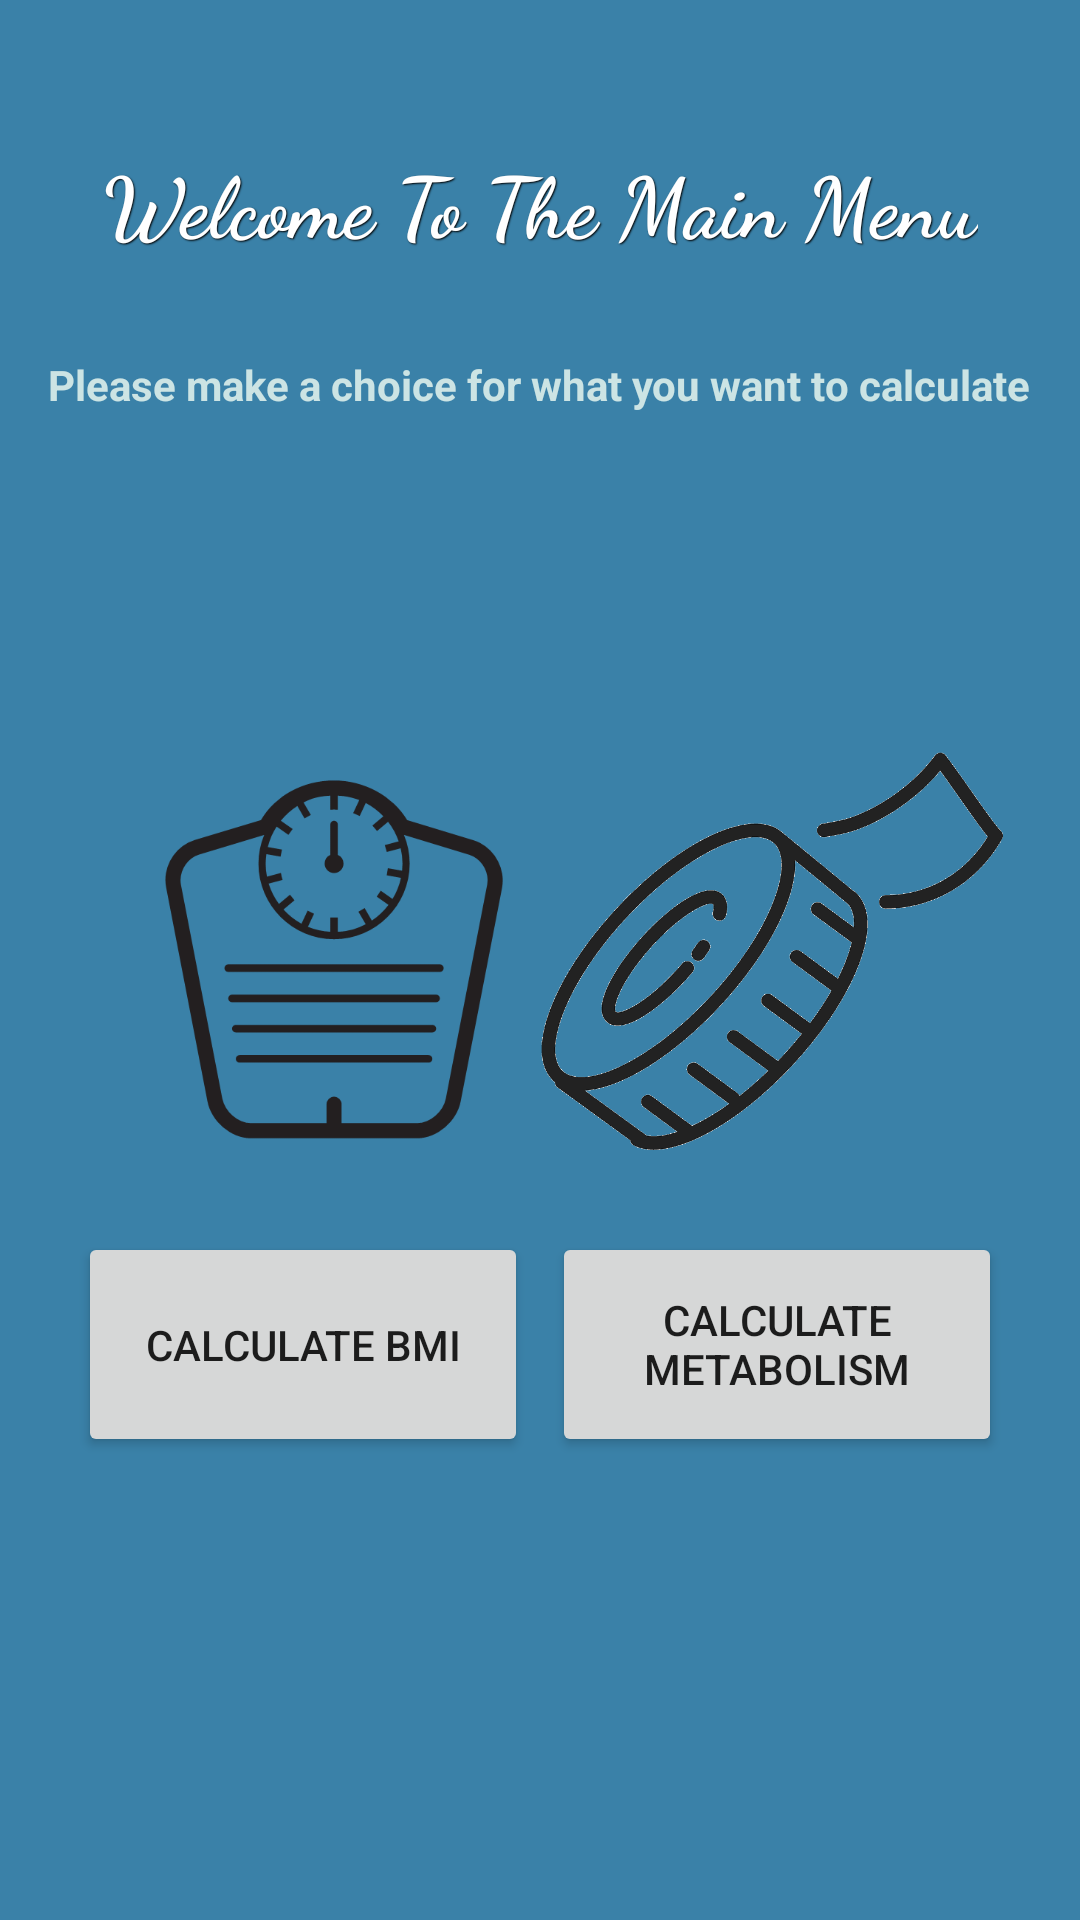

Where icons sit on this 1080px x 1920px app screen, as (x1, y1, x2, y2):
wo scale: (165, 780, 503, 1139)
